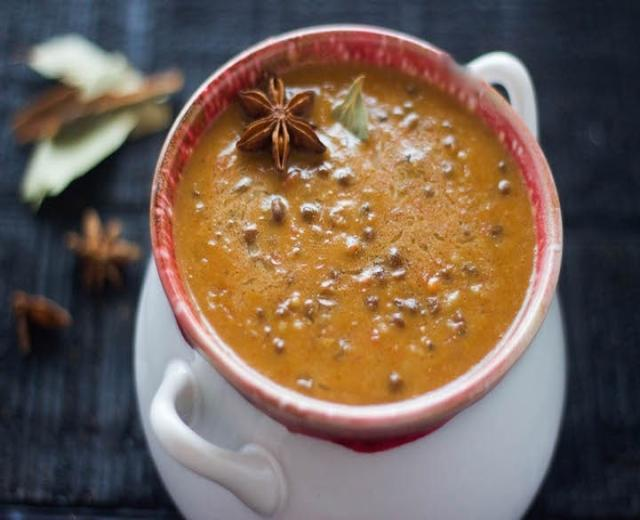dal makhni: (155, 30, 557, 431)
